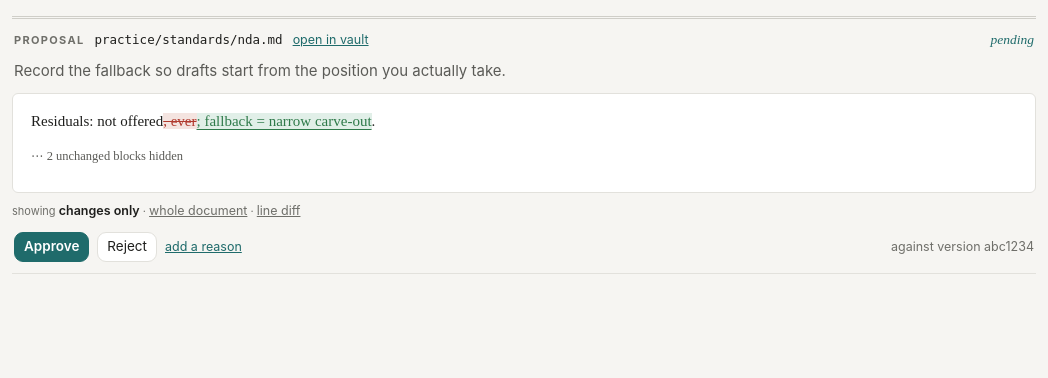
Test: the proposal slip › a 409 conflict becomes the reload footer with both versions
The width and height of the screenshot is (1048, 378).
Click the button "Approve": click(52, 247) 14,232 -> 89,262
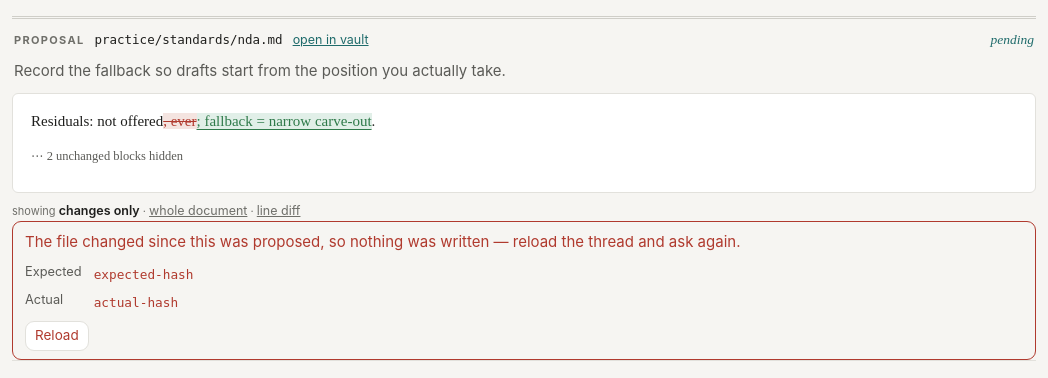
expect the text "file changed since" is shown: met, box 25,232 -> 740,251
expect the text "expected-hash" is shown: met, box 94,267 -> 194,282
expect the text "actual-hash" is shown: met, box 94,295 -> 178,310
Click the button "Reload": click(57, 336) 25,321 -> 89,351
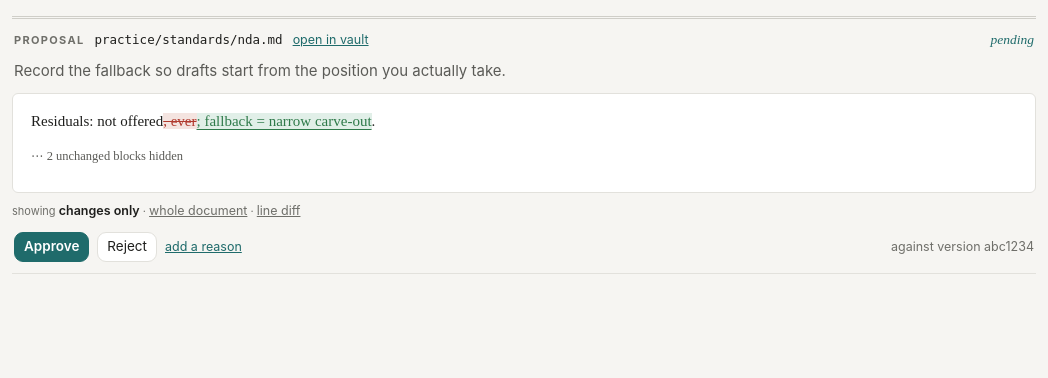
expect the text "expected-hash" is gone: met
